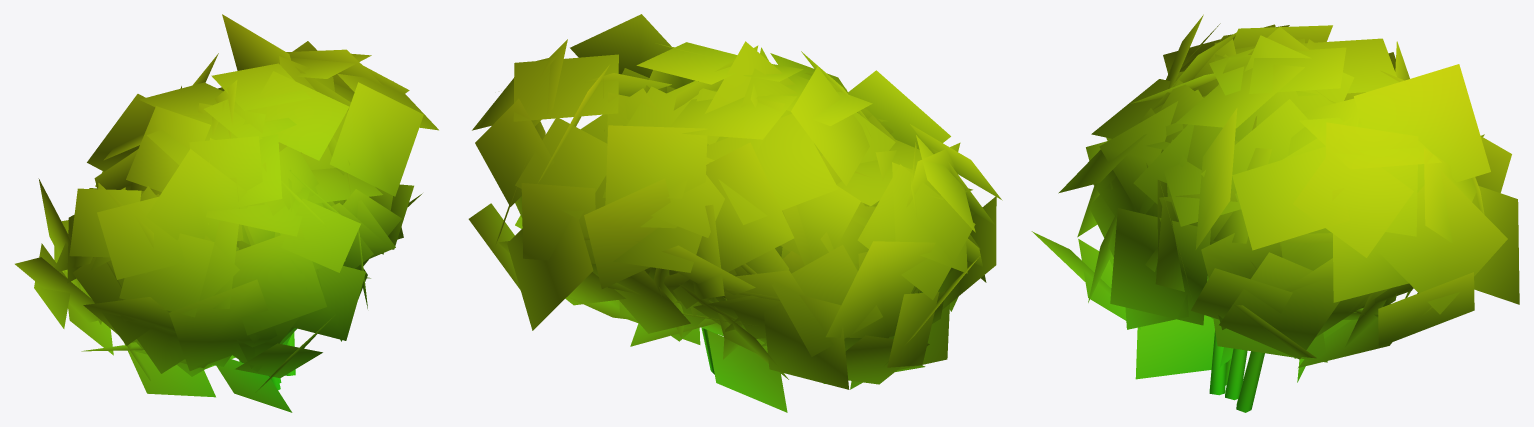
Rendered from shrub_a.glb.
The picture shows the model from 3 angles, left to right: view 1: azimuth 30°, elevation 25°; view 2: azimuth 150°, elevation 25°; view 3: azimuth 270°, elevation 25°; orthographic projection. The views are drawn at different scales.
Parts seen in each view (by area): view 1: shrub_a; view 2: shrub_a; view 3: shrub_a.
Part boxes in pixels (x1,y1,x2,y2): shrub_a: [15, 14, 438, 412]; shrub_a: [468, 14, 1002, 412]; shrub_a: [1031, 14, 1519, 412].
Size of the model in its own units: 2.24 by 1.63 by 2.
